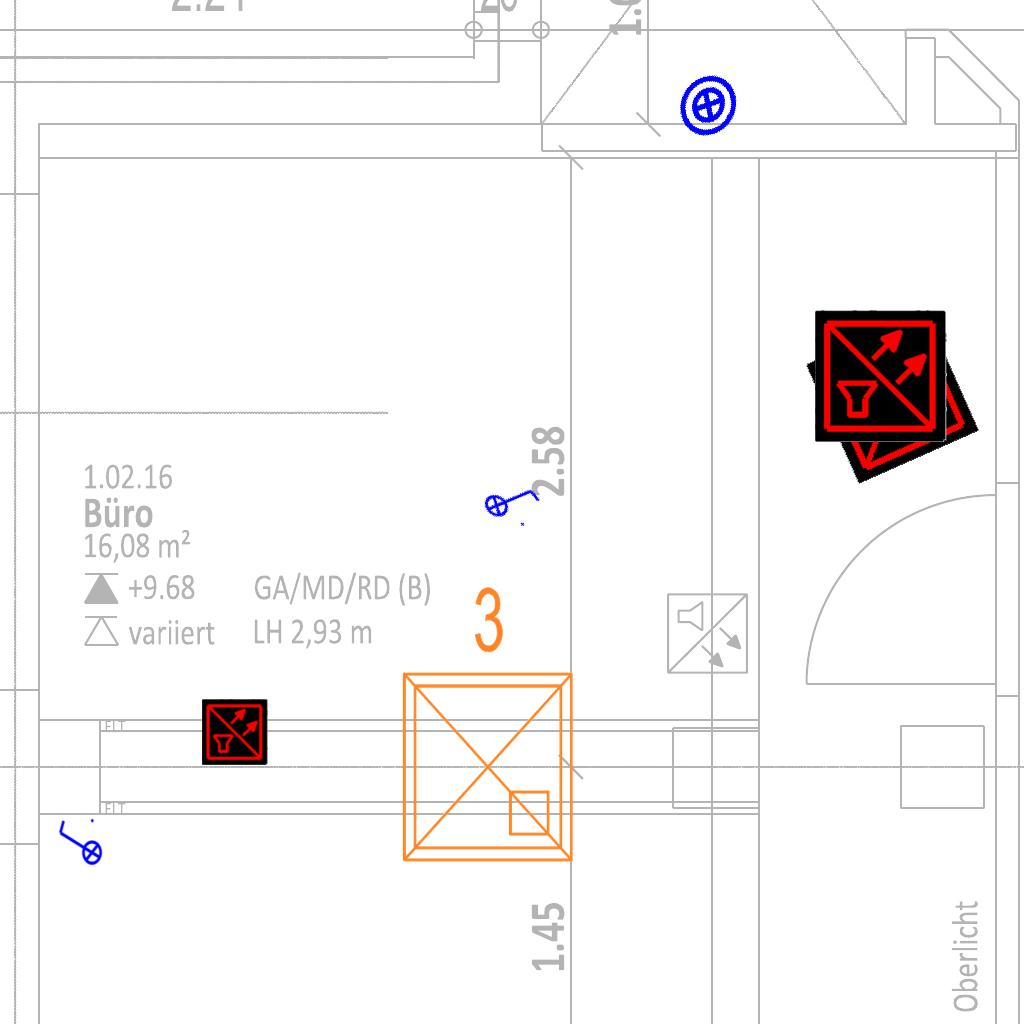Ausschalter_beleuchtet: (474, 464, 548, 536), (55, 816, 103, 872)
Einbaudownlights_LED_Konferenzraeume: (380, 576, 588, 876)
OKW_Multisensormelder_(Kombination_optischer_Rauch-Kahlenmonoxid_Waerme-Melder): (804, 309, 980, 485), (815, 310, 947, 442), (202, 699, 268, 765)
Taster_beleuchtet: (663, 60, 753, 150)
